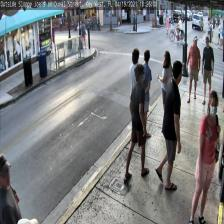person: (154, 60, 182, 190), (157, 50, 173, 132), (139, 50, 152, 140), (129, 48, 141, 139)
